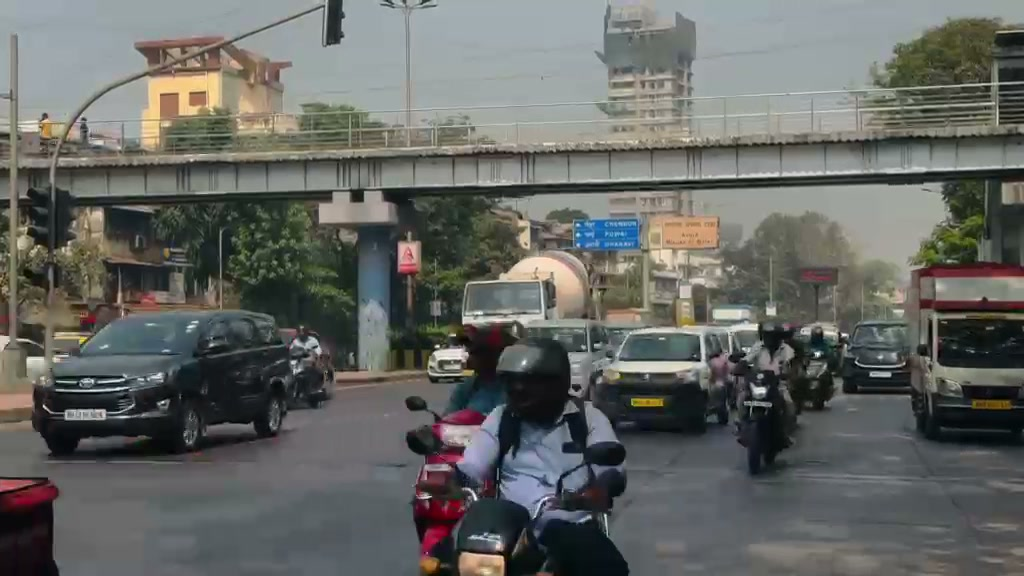car: (29, 308, 293, 456), (592, 326, 729, 433), (523, 319, 611, 400), (842, 321, 911, 393), (427, 345, 470, 383)
motorcycle: (403, 395, 629, 573), (729, 361, 790, 476), (290, 340, 333, 409), (798, 355, 834, 410)
pedestrian: (456, 338, 630, 572), (729, 324, 798, 446), (289, 325, 321, 400), (806, 323, 839, 375)
truck: (906, 263, 1023, 441)
